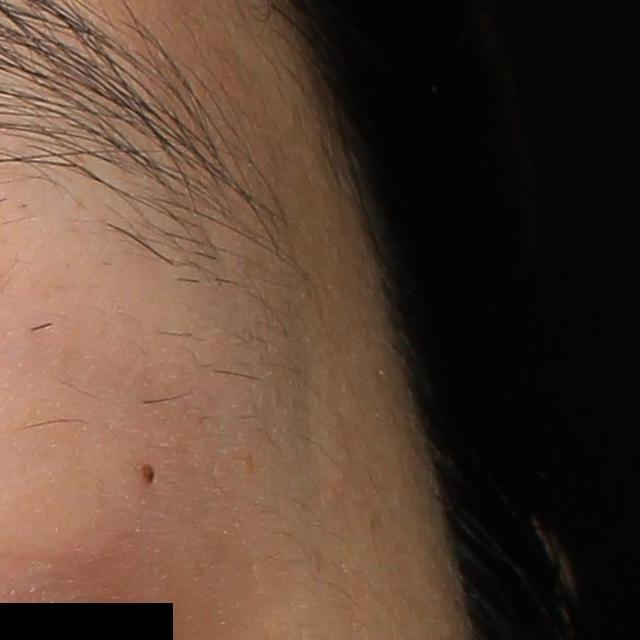nevus: (139, 461, 158, 485)
